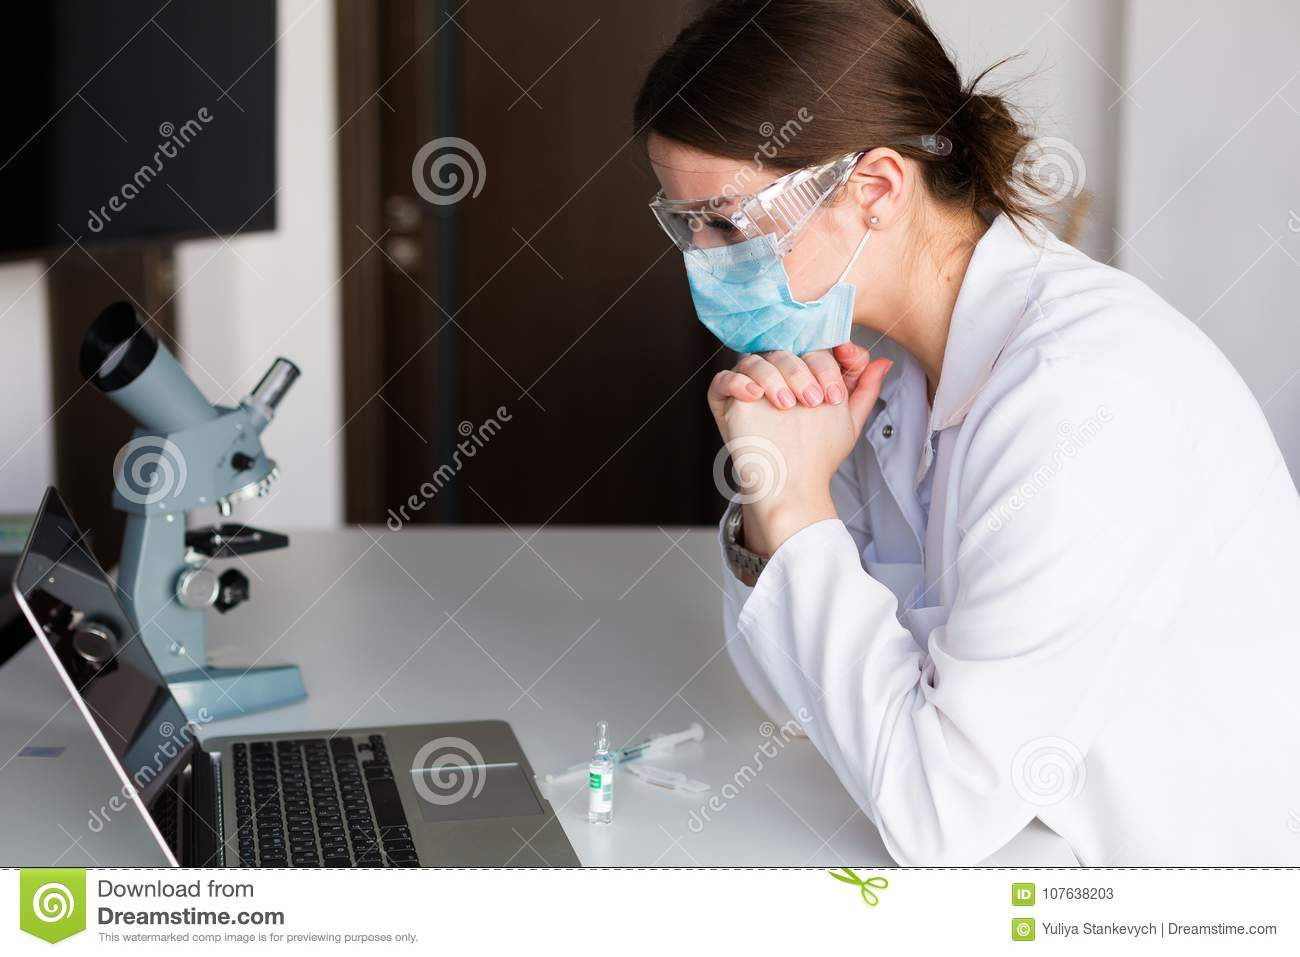mask: (667, 239, 848, 364)
